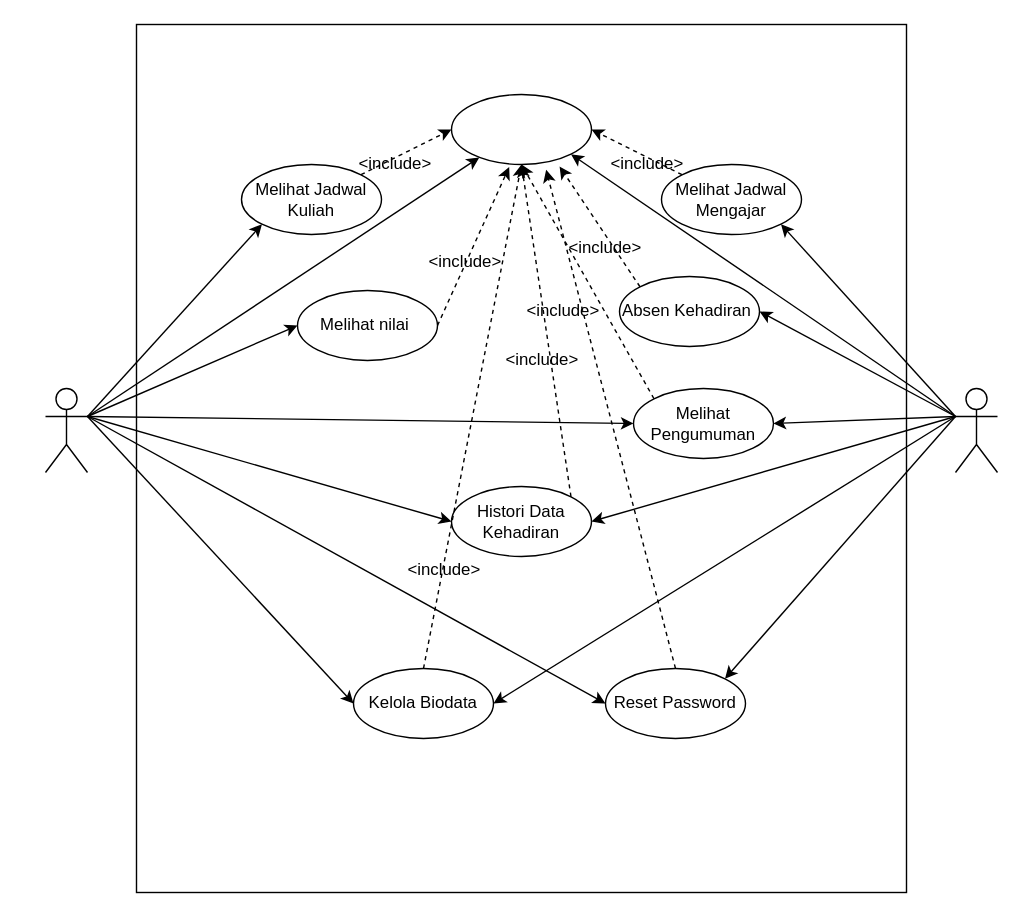
Image size: 1025x917. Some labels were removed from this diagram. The shapes that lost their labels are listed below. From the top down, each one's box as (x1, y1, x2, y2) in pixels, then its label:
(450, 93, 592, 164): Login
(44, 387, 88, 472): Mahasiswa
(954, 387, 997, 472): Dosen
